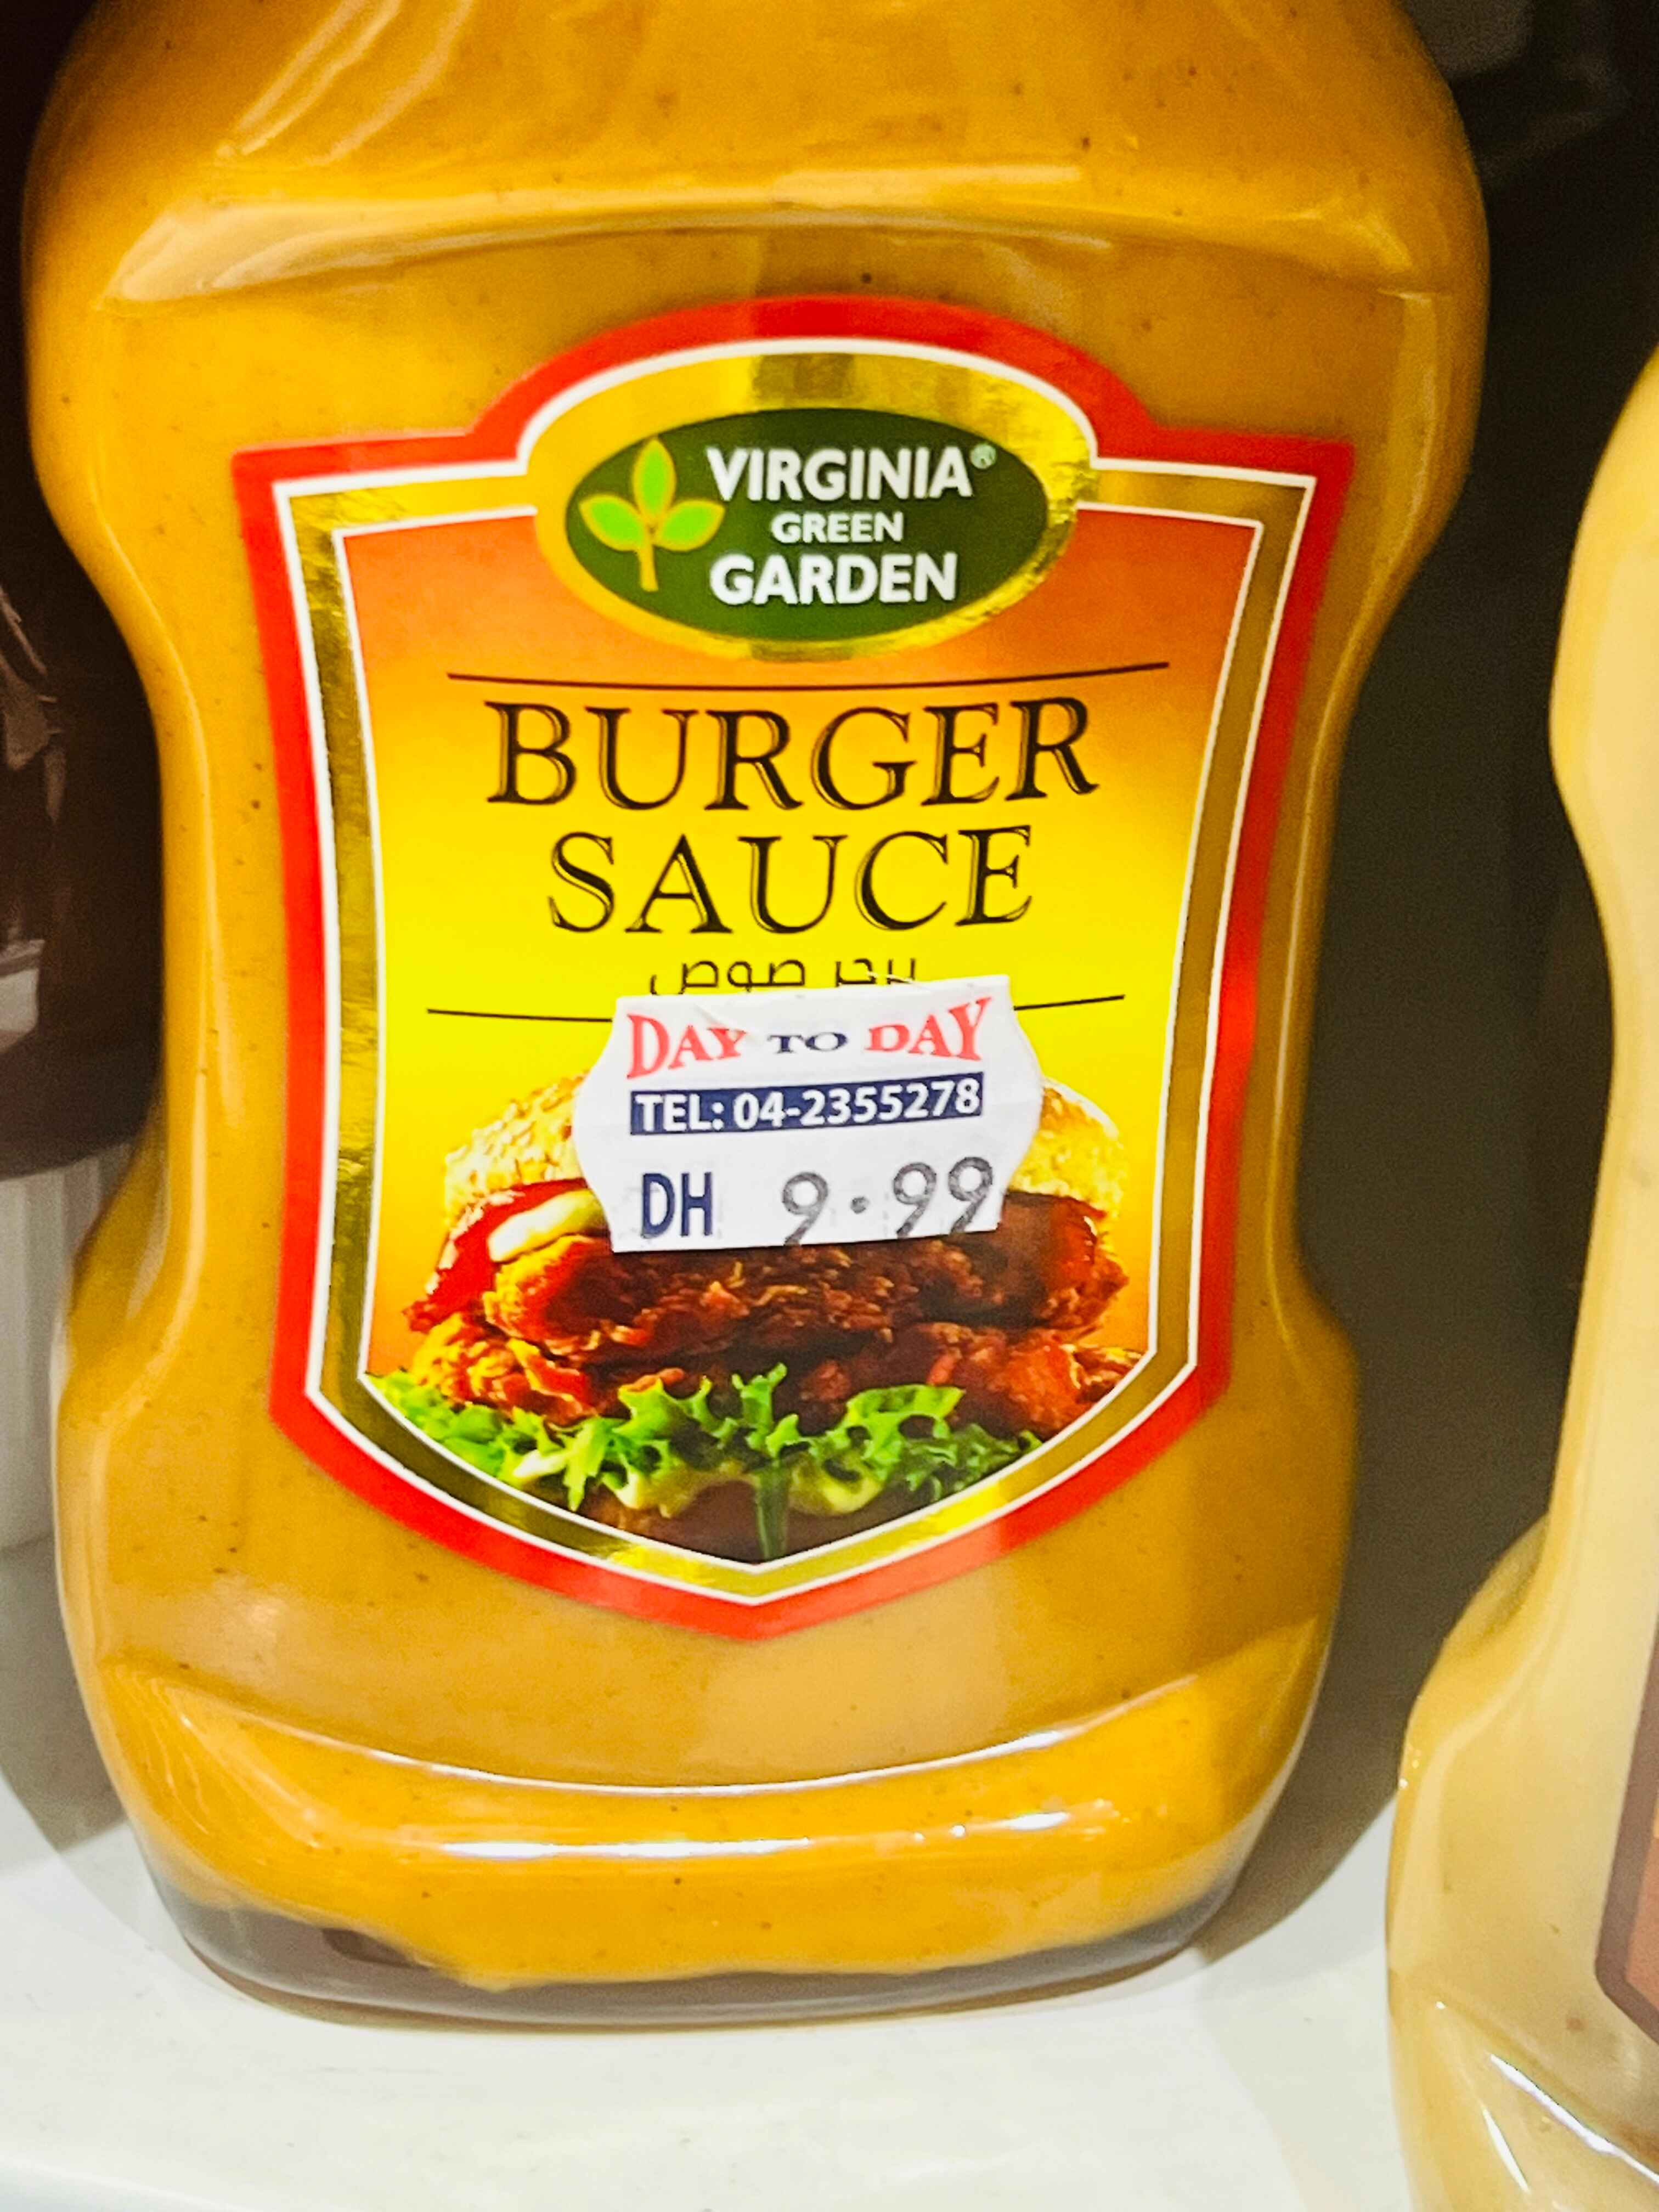PriceTagSmall: (559, 993, 1030, 1247)
